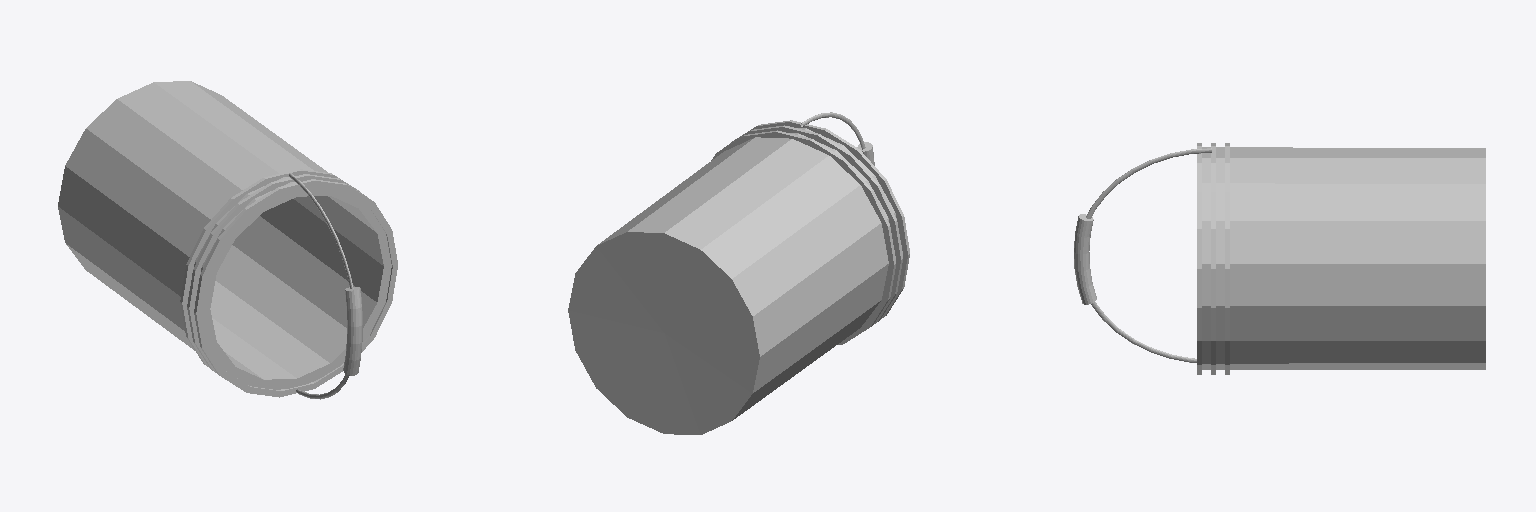
File: BucketHandleUp.obj
3 views of the same model, side by side, from view 1: azimuth 30°, elevation 25°; view 2: azimuth 150°, elevation 25°; view 3: azimuth 270°, elevation 25° (orthographic).
Visible parts, largest first — view 1: Bucket0, Ring1, Ring3, Ring2, Handle0, HandleMeta; view 2: Bucket0, Ring3, Ring2, Ring1; view 3: Bucket0, Handle0, HandleMeta, Ring3, Ring2, Ring1.
Boxes of the visible parts, x1,y1,x2,y2 form: Bucket0: [58, 81, 391, 389]; Ring1: [194, 179, 397, 397]; Ring3: [180, 169, 359, 367]; Ring2: [187, 174, 366, 385]; Handle0: [343, 287, 362, 375]; HandleMeta: [289, 173, 353, 399]; Bucket0: [568, 127, 902, 434]; Ring3: [711, 130, 895, 344]; Ring2: [724, 125, 902, 323]; Ring1: [731, 120, 909, 319]; Bucket0: [1202, 147, 1485, 369]; Handle0: [1074, 214, 1096, 304]; HandleMeta: [1086, 148, 1211, 362]; Ring3: [1225, 143, 1229, 374]; Ring2: [1211, 143, 1215, 374]; Ring1: [1197, 143, 1201, 374].
Size of the model in its own units: 149 by 152 by 264.